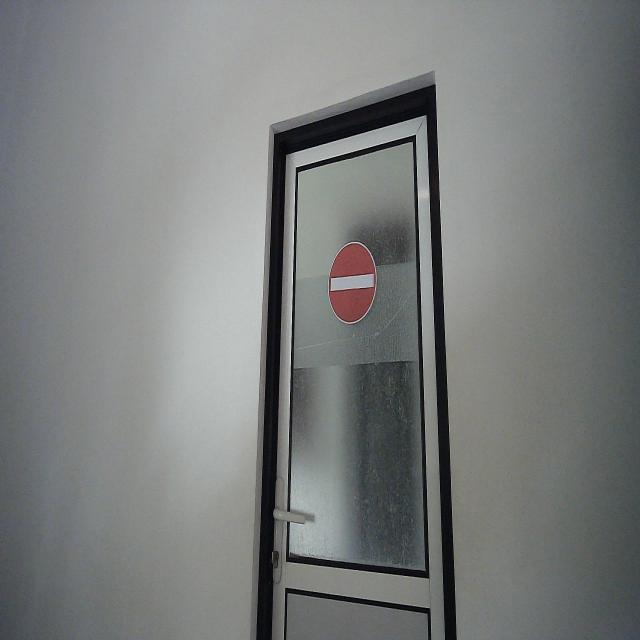no_entry: (327, 240, 379, 326)
